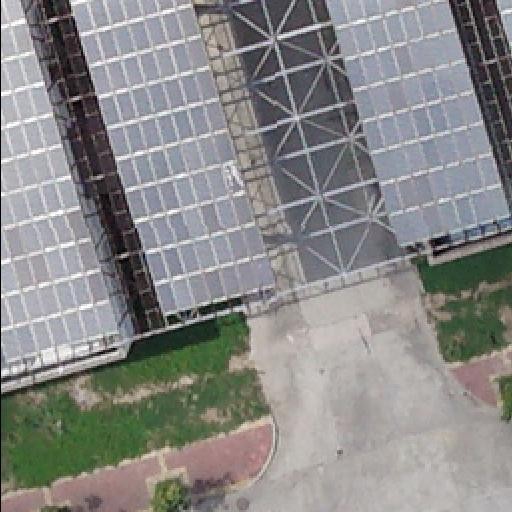solar-panel: (69, 0, 275, 316), (323, 1, 509, 247), (2, 0, 118, 360), (496, 0, 512, 60)
